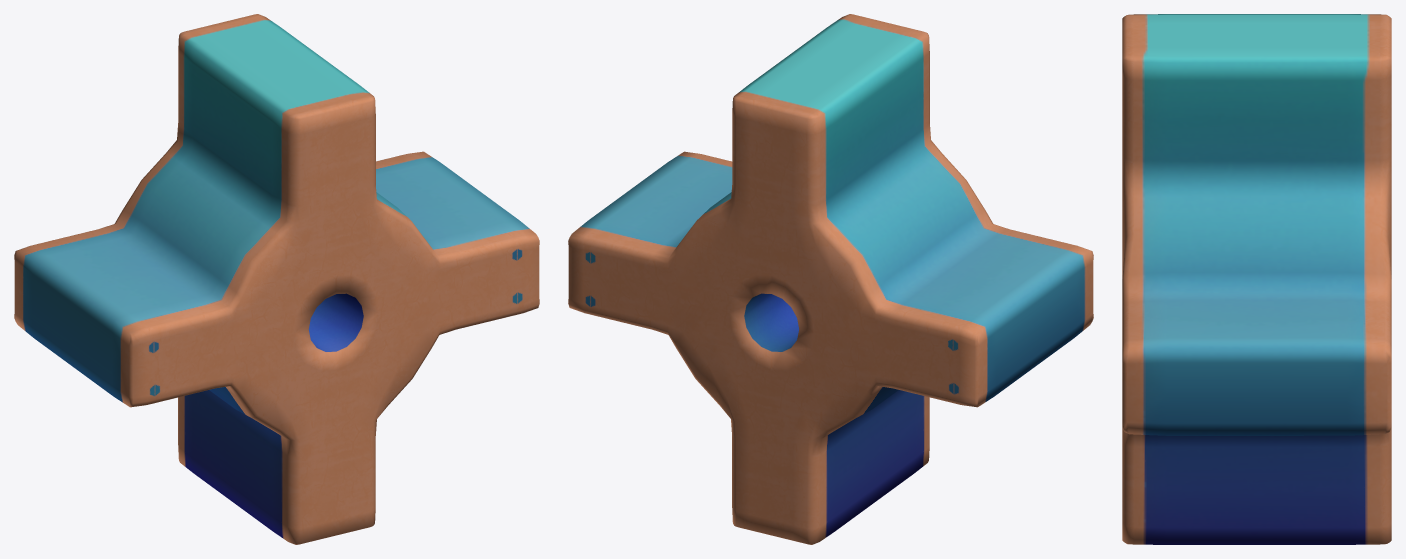
The model's file is GearPlatform.fbx.
The picture shows the model from 3 angles, left to right: view 1: azimuth 30°, elevation 25°; view 2: azimuth 150°, elevation 25°; view 3: azimuth 270°, elevation 25°; orthographic projection. The views are drawn at different scales.
Visible parts, largest first — view 1: GearPlatform; view 2: GearPlatform; view 3: GearPlatform.
Part boxes in pixels (x1,y1,x2,y2): GearPlatform: [14, 14, 539, 544]; GearPlatform: [568, 14, 1093, 544]; GearPlatform: [1122, 14, 1391, 544].
Bounding box in the file's own units: 1878 × 1879 × 941.
